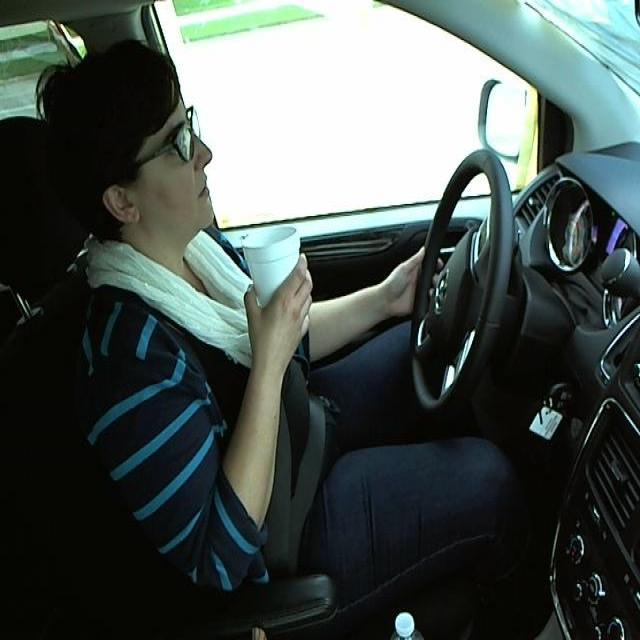drinking: (241, 218, 309, 335)
